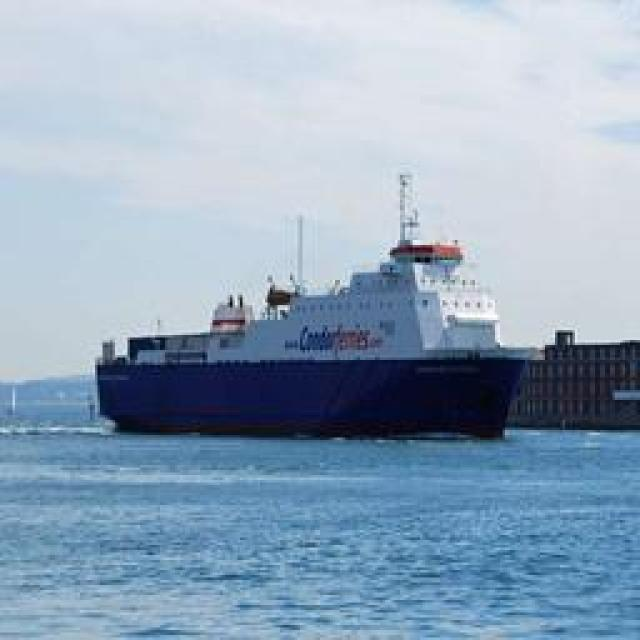CIV_Ship: (91, 170, 539, 445)
